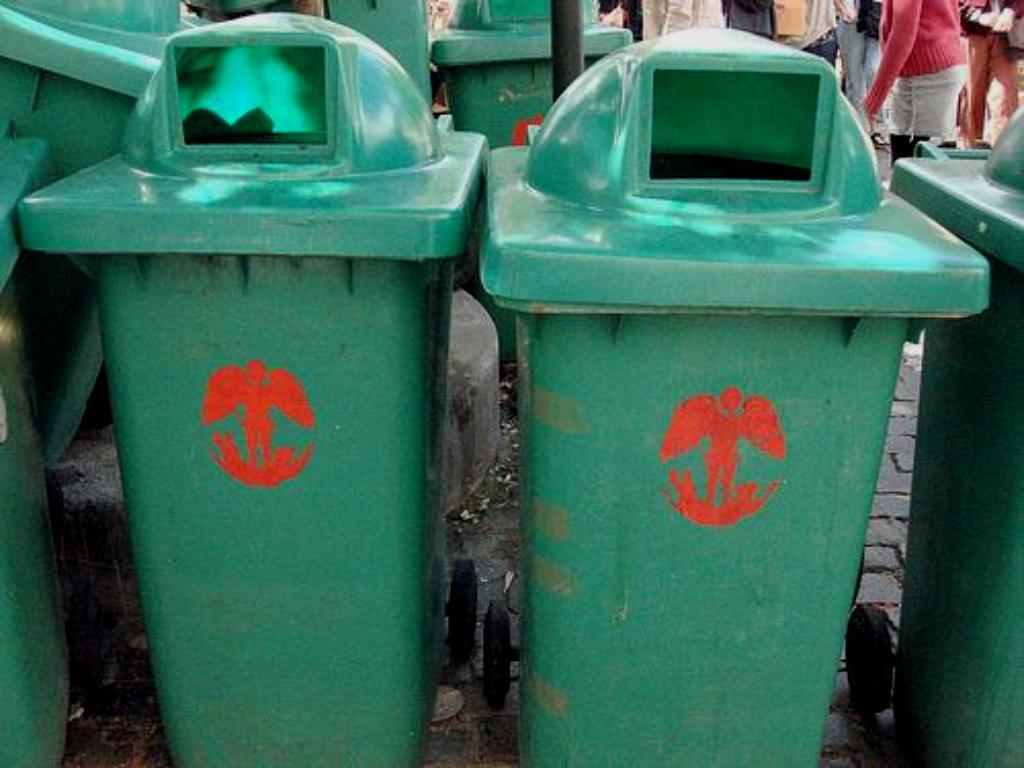dustbin: (487, 15, 978, 768), (76, 15, 474, 768)
